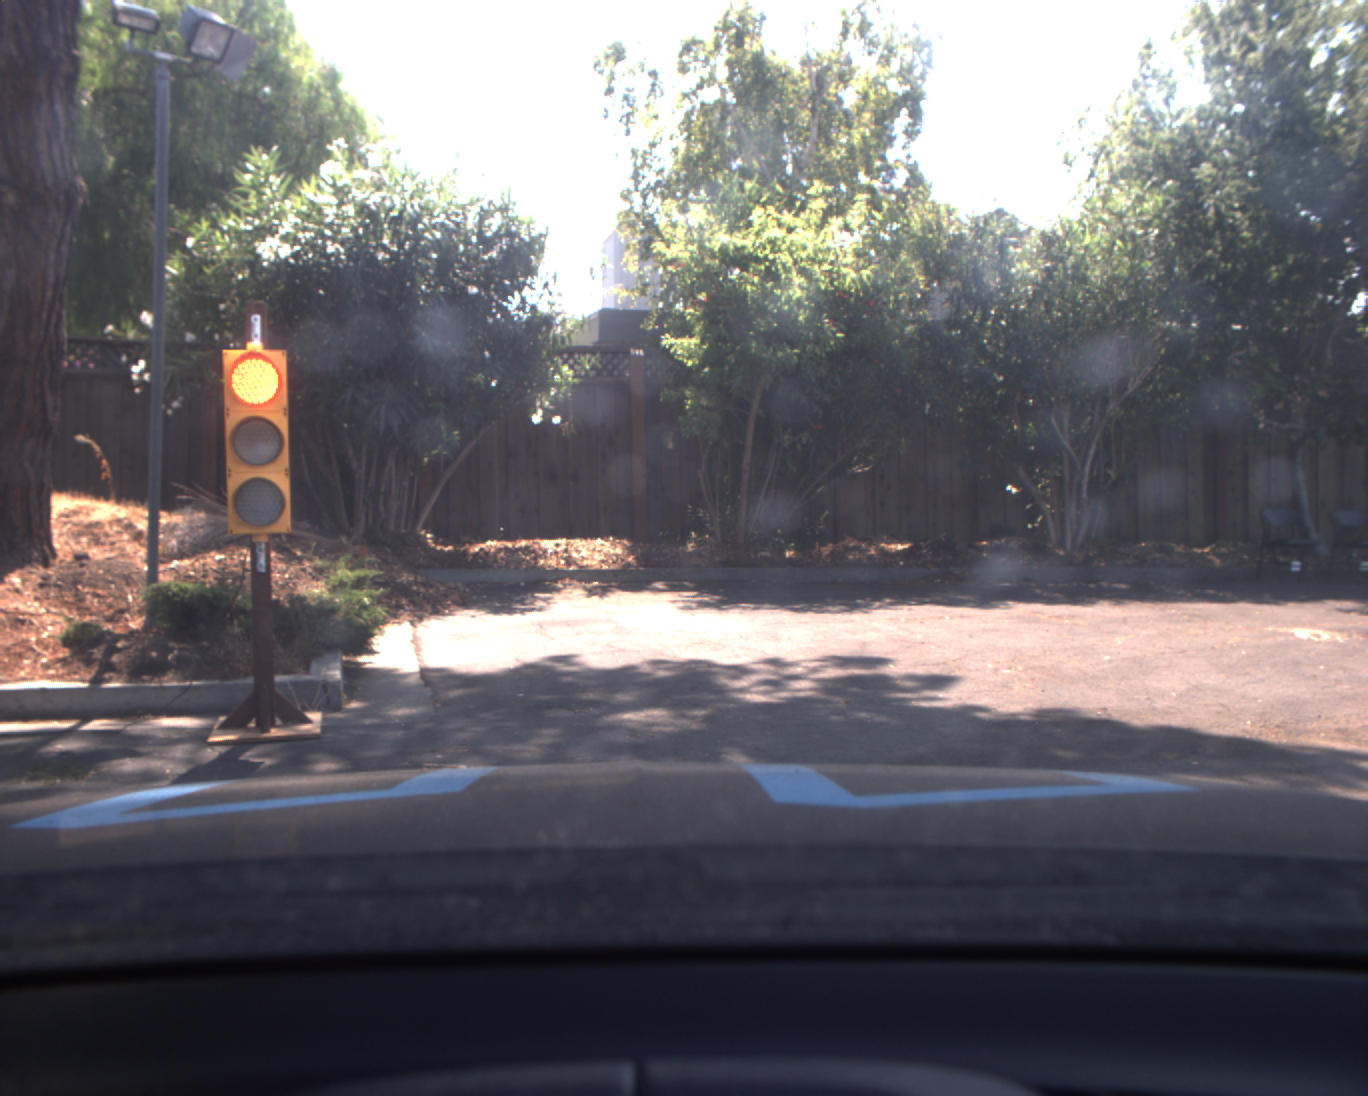red: (220, 340, 293, 537)
